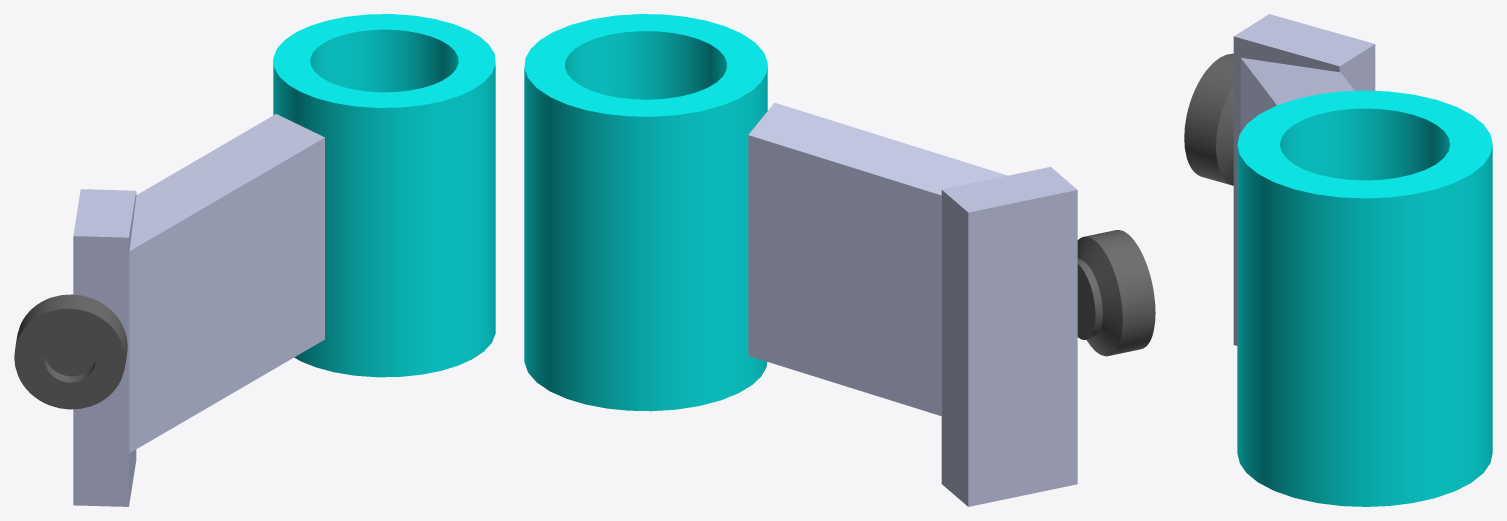
File: slider0.obj
3 views of the same model, side by side, from view 1: azimuth 30°, elevation 25°; view 2: azimuth 150°, elevation 25°; view 3: azimuth 270°, elevation 25° (orthographic). The views are drawn at different scales.
Parts seen in each view (by area): view 1: 1_DC_Shell, 2_DC_Shell, NONE_DC_Shell; view 2: 1_DC_Shell, NONE_DC_Shell, 2_DC_Shell; view 3: 1_DC_Shell, NONE_DC_Shell, 2_DC_Shell.
Part boxes in pixels (<box>): 1_DC_Shell: <box>273,14,495,377</box>; 2_DC_Shell: <box>129,114,324,452</box>; NONE_DC_Shell: <box>14,189,136,506</box>; 1_DC_Shell: <box>524,14,767,411</box>; NONE_DC_Shell: <box>941,167,1155,506</box>; 2_DC_Shell: <box>748,102,1007,416</box>; 1_DC_Shell: <box>1237,90,1492,506</box>; NONE_DC_Shell: <box>1184,14,1375,345</box>; 2_DC_Shell: <box>1240,57,1354,132</box>.
Bounding box in the file's own units: 160 × 97.34 × 72.5.
